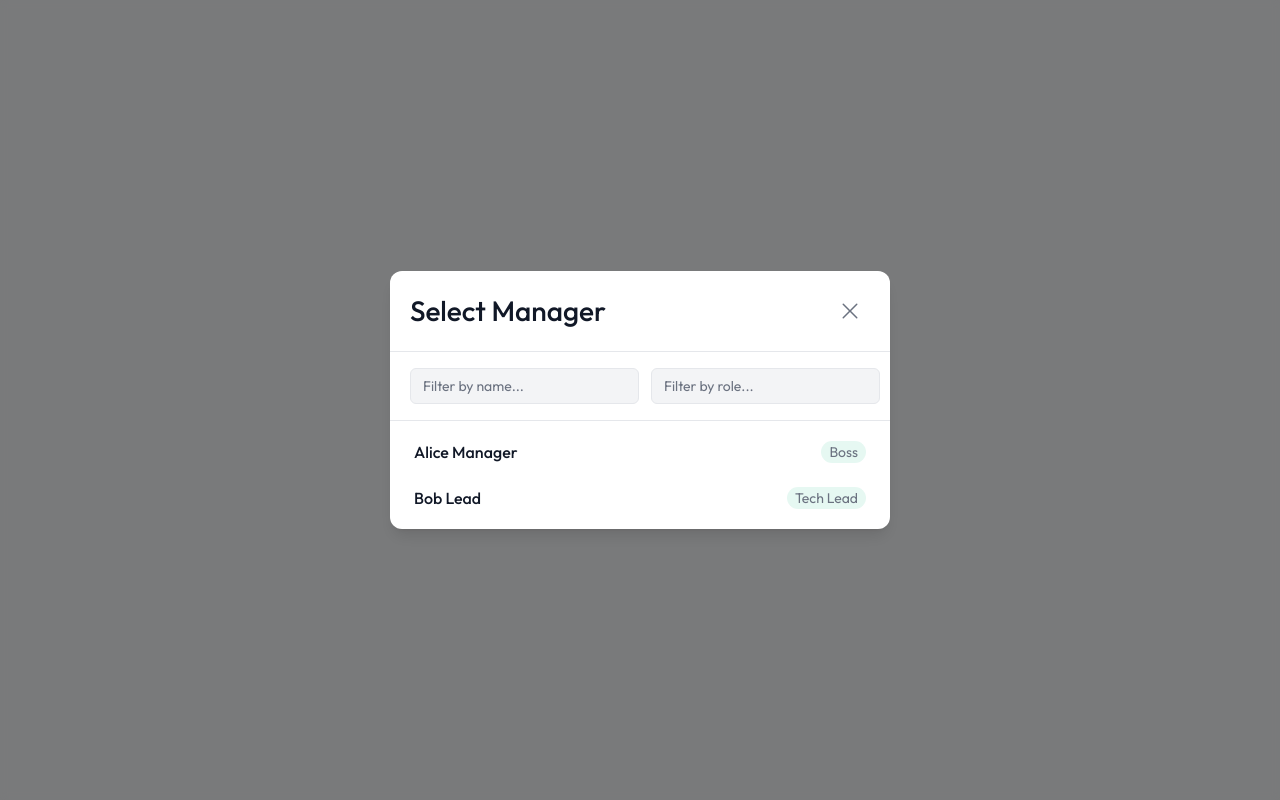
Test: ManagerSelectModal › filters list by role input
Expected: the text "Alice Manager" is shown, [414, 442, 518, 462]
Type "Tech Lead" into the field with placeholder "Filter by role...".
click(766, 386); type("Tech Lead")  # box [651, 368, 880, 404]
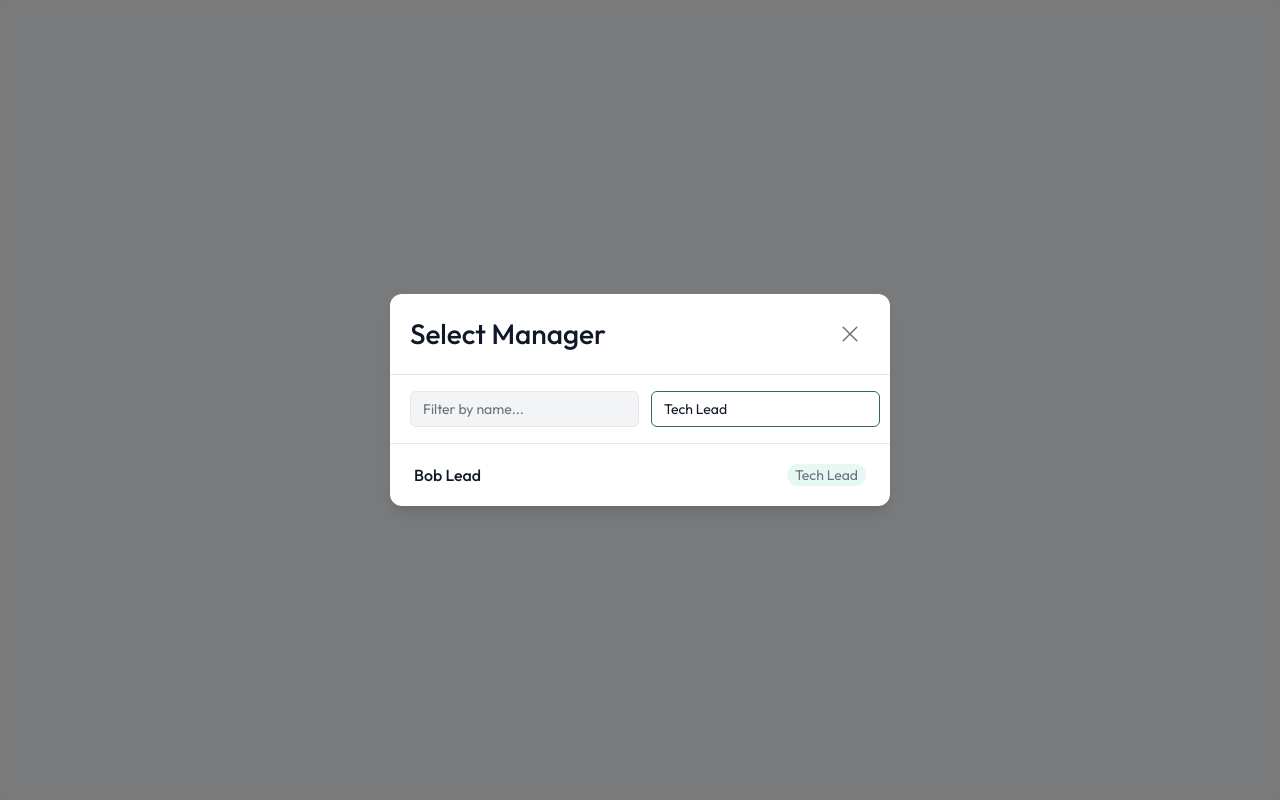
Expected: the text "Bob Lead" is shown, [414, 465, 481, 485]
Expected: the button "Alice Manager" is gone
